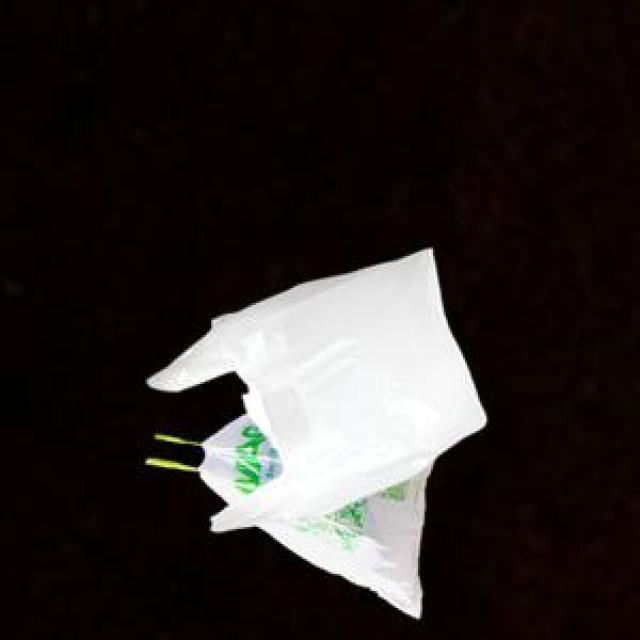waste: (146, 249, 486, 617)
